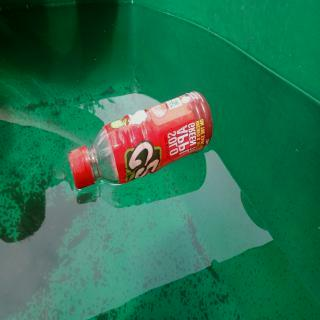bottle: (68, 88, 214, 190)
